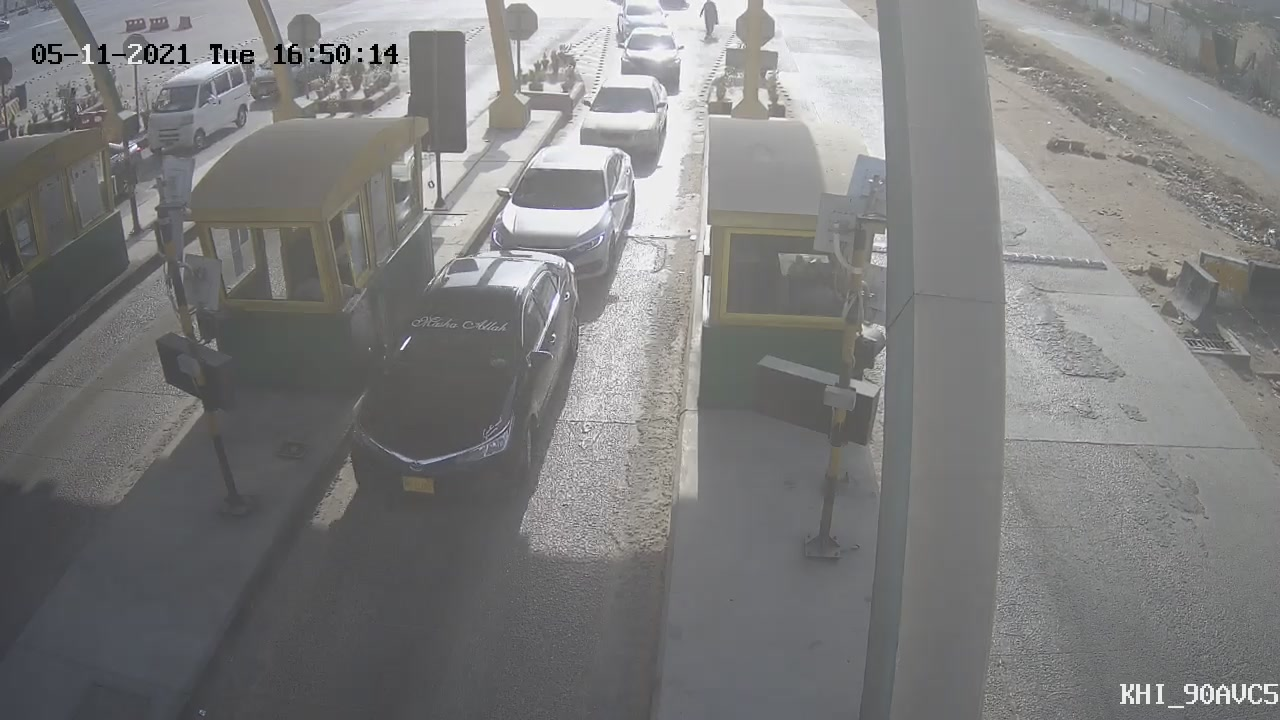F1: (314, 236, 601, 539), (470, 125, 653, 304), (560, 62, 677, 181)
